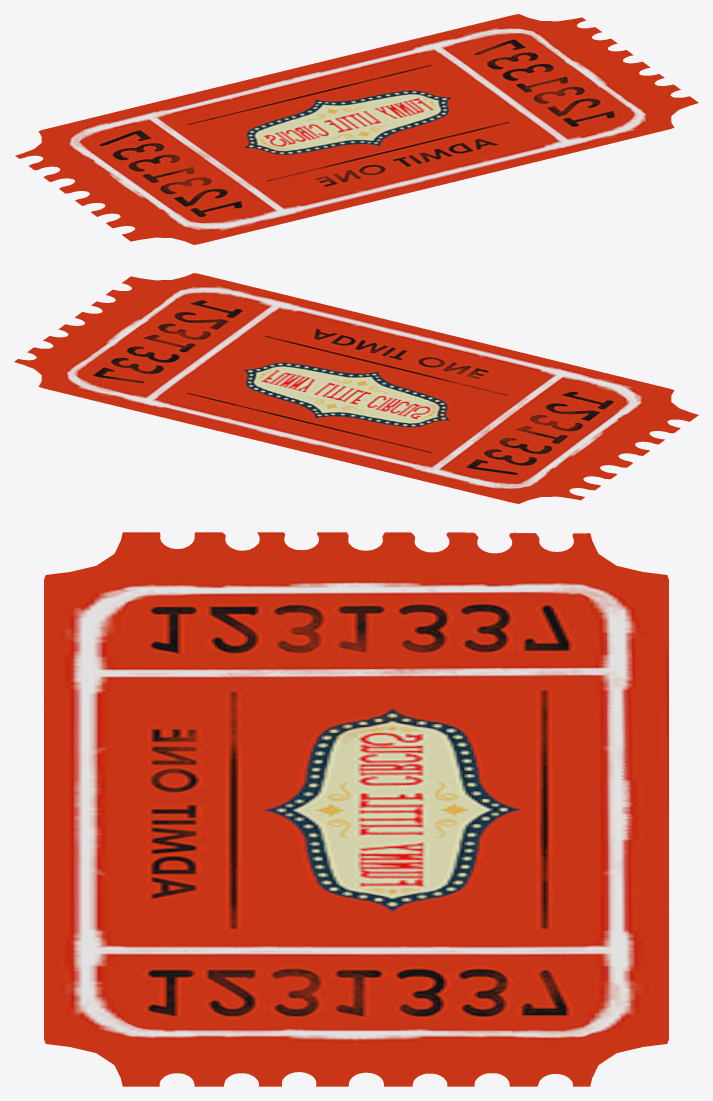
File: ticket.fbx
The picture shows the model from 3 angles, top to bottom: view 1: azimuth 30°, elevation 25°; view 2: azimuth 150°, elevation 25°; view 3: azimuth 270°, elevation 25°; orthographic projection. The views are drawn at different scales.
Visible parts, largest first — view 1: Lippu; view 2: Lippu; view 3: Lippu.
Boxes of the visible parts, left/top/right/bottom form: Lippu: left=15, top=14, right=698, bottom=244; Lippu: left=14, top=273, right=698, bottom=503; Lippu: left=44, top=532, right=668, bottom=1086.
Size of the model in its own units: 34.62 by 0 by 16.49.
